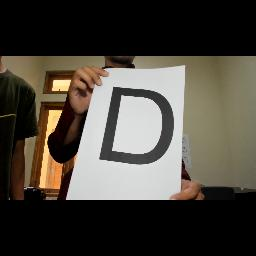d: (96, 80, 176, 174)
